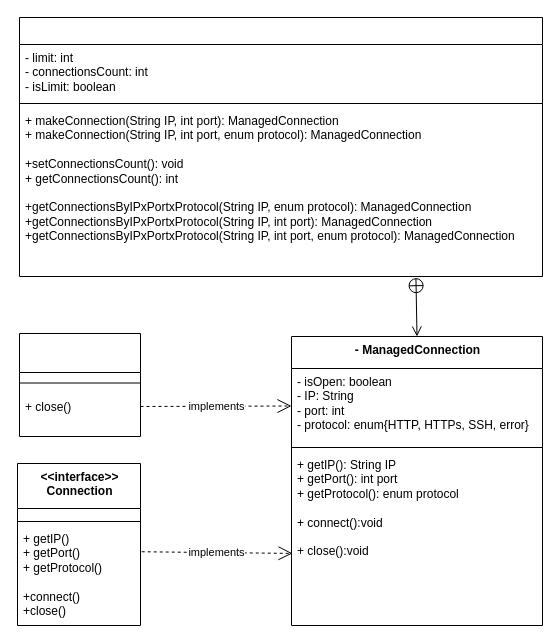
Image size: 560x644. Some labels were removed from this diagram. The shapes that lost their labels are listed below. From the top down, each one's box as (x1, y1, x2, y2) in pixels, then its label:
(18, 16, 542, 276): ConnectionManager
(18, 332, 140, 436): <<interface>> Closable
